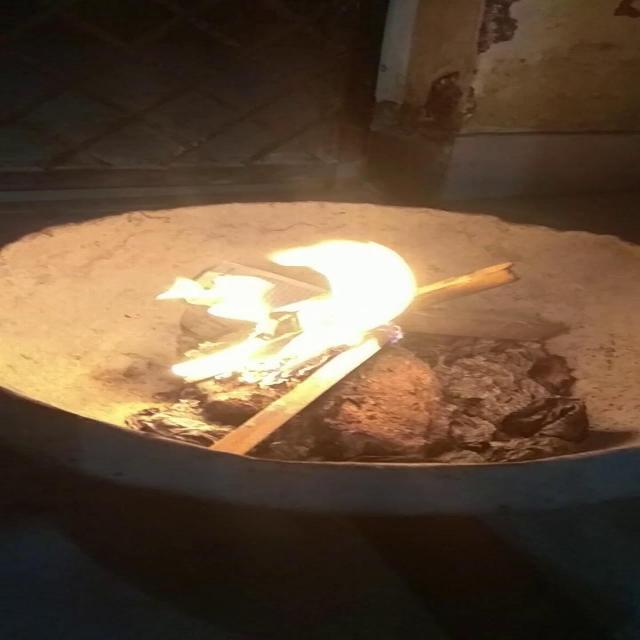fire: (150, 237, 435, 394)
